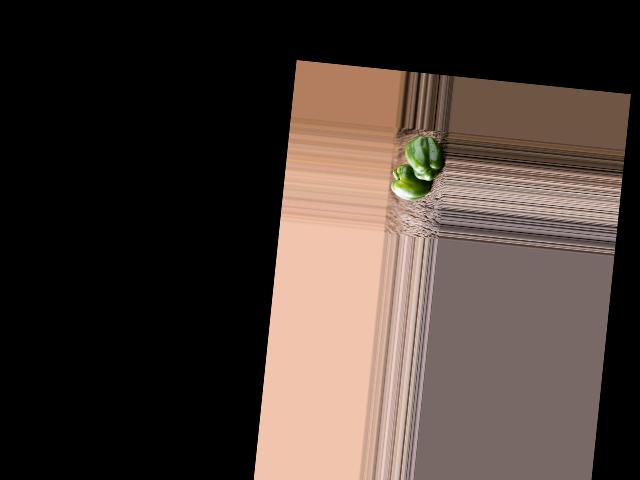bell_pepper: (401, 134, 443, 183)
